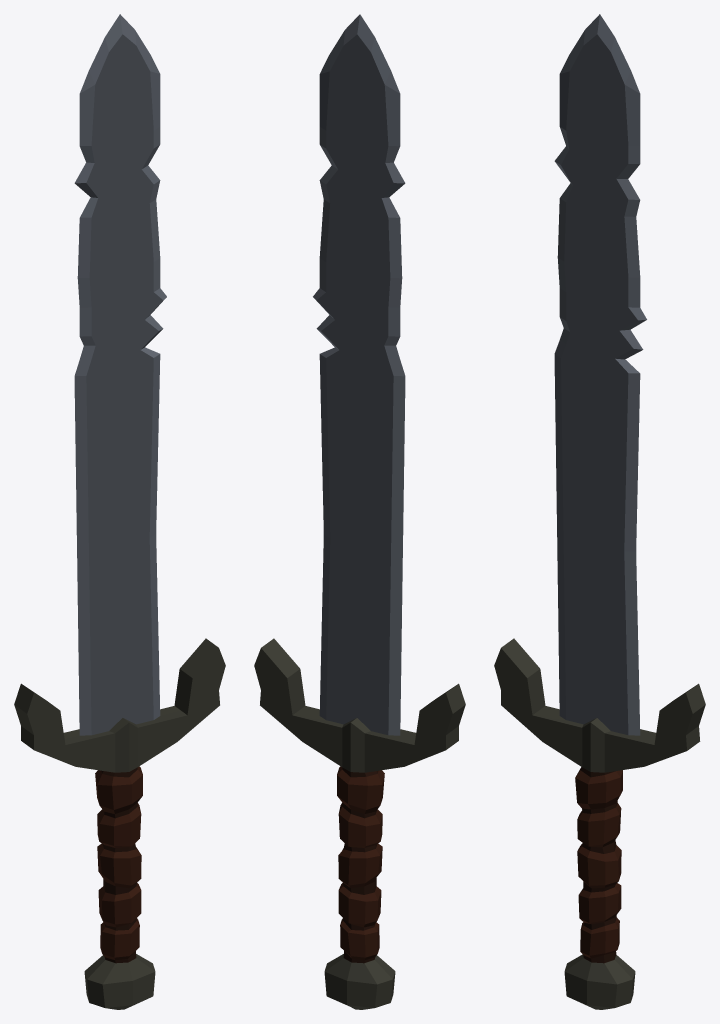
File: Sword.obj
3 renders of one model, left to right at view 1: azimuth 30°, elevation 25°; view 2: azimuth 150°, elevation 25°; view 3: azimuth 330°, elevation 25°, orthographic.
Parts seen in each view (by area): view 1: Sword_Cylinder; view 2: Sword_Cylinder; view 3: Sword_Cylinder.
Boxes of the visible parts, x1,y1,x2,y2 form: Sword_Cylinder: (14, 14, 225, 1009); Sword_Cylinder: (254, 14, 465, 1009); Sword_Cylinder: (494, 14, 705, 1009).
Bounding box in the file's own units: 1.14 × 5.45 × 0.2611.
